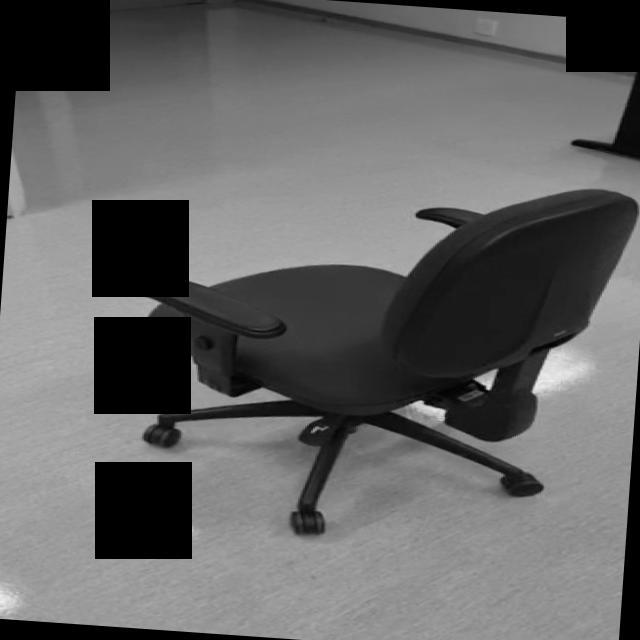chair: (110, 157, 639, 557)
